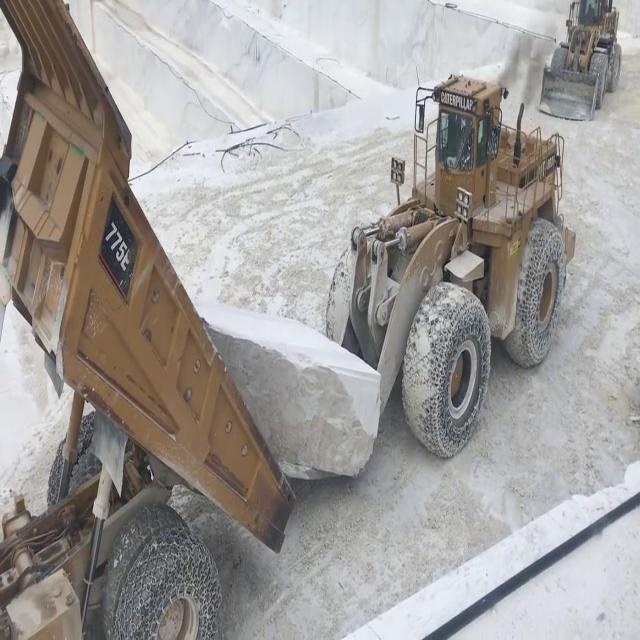buldozerpayloadergrader: (325, 75, 573, 456), (540, 0, 620, 120)
dump_truck: (0, 0, 296, 637)
